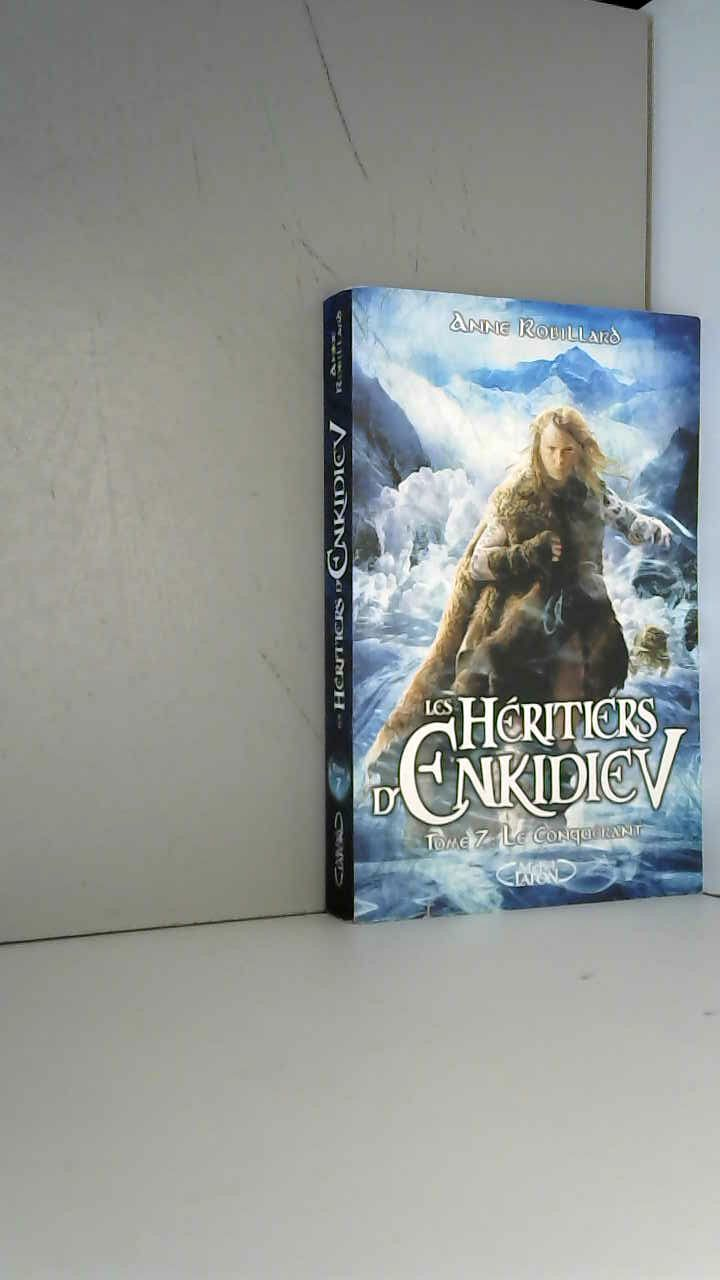book: (300, 260, 720, 943)
